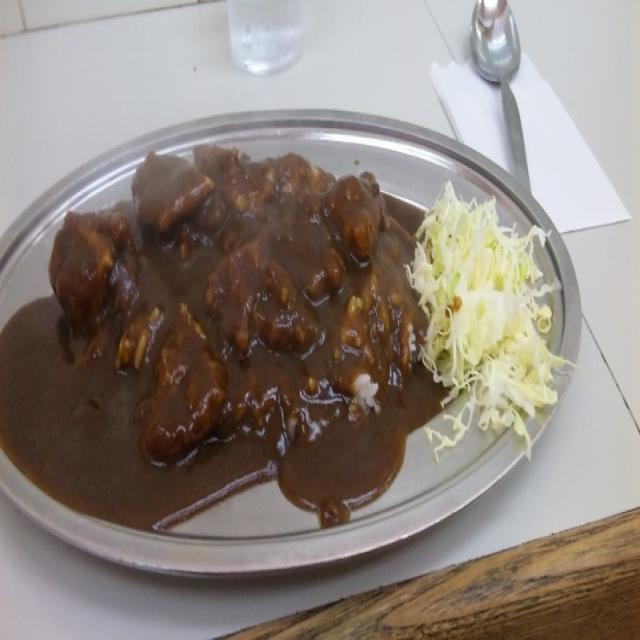Beef Curry: (0, 160, 413, 517)
Green Salad: (421, 185, 559, 414)
